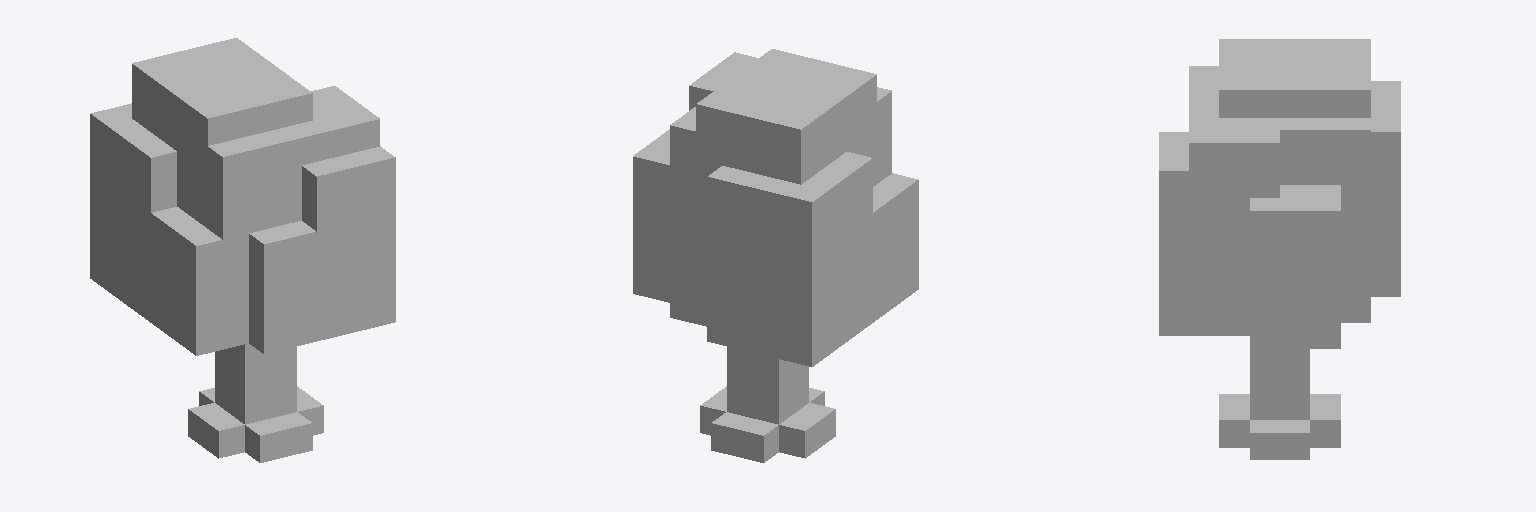
File: Tree-3.obj
3 views of the same model, side by side, from view 1: azimuth 30°, elevation 25°; view 2: azimuth 150°, elevation 25°; view 3: azimuth 270°, elevation 25° (orthographic).
Parts seen in each view (by area): view 1: object 1; view 2: object 1; view 3: object 1.
Boxes of the visible parts, <box> form: object 1: <box>90,38,395,462</box>; object 1: <box>633,49,918,462</box>; object 1: <box>1159,39,1400,459</box>.
Size of the model in its own units: 0.8 by 1.3 by 0.8.